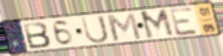6: (51, 20, 75, 47)
B: (21, 21, 52, 51)
E: (168, 5, 200, 37)
M: (138, 7, 176, 41), (104, 12, 144, 43)
U: (79, 14, 111, 45)
